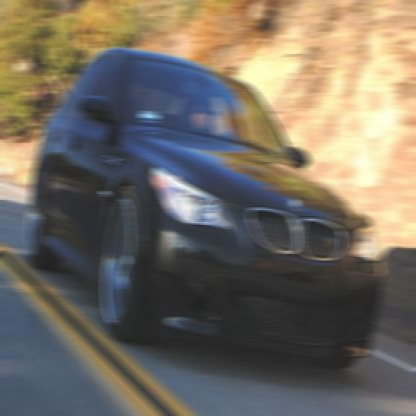Vehicle: (30, 51, 382, 374)
